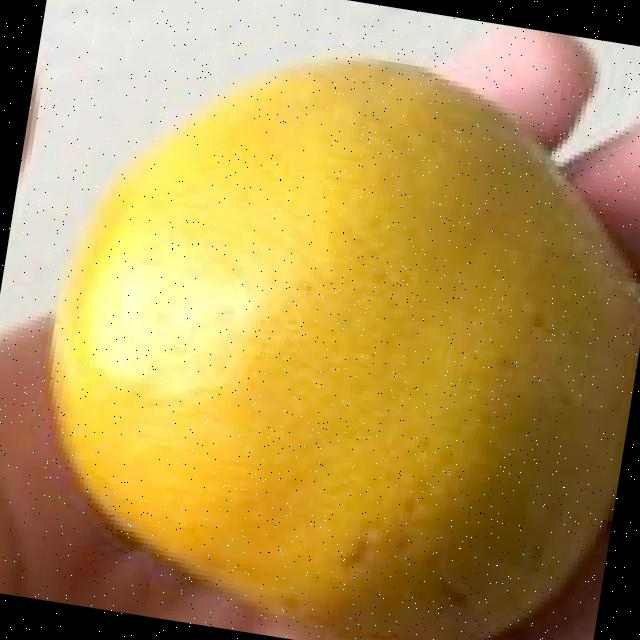Good_Orange-15-21 days: (43, 57, 640, 640)
